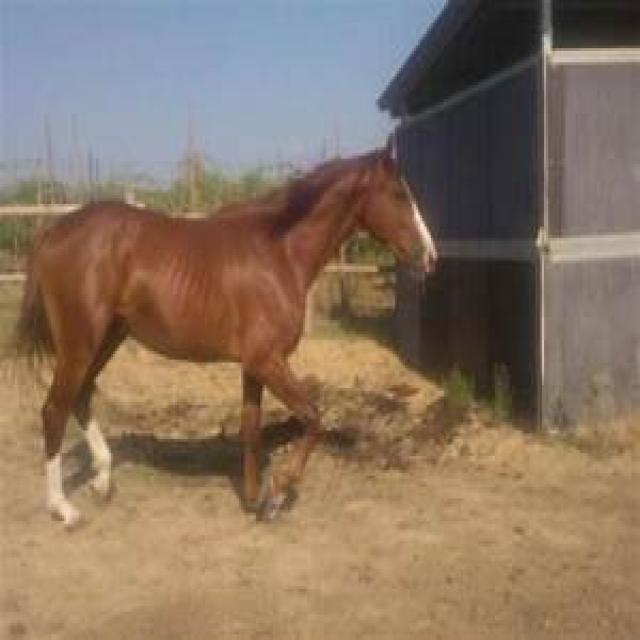horse: (15, 144, 439, 532)
